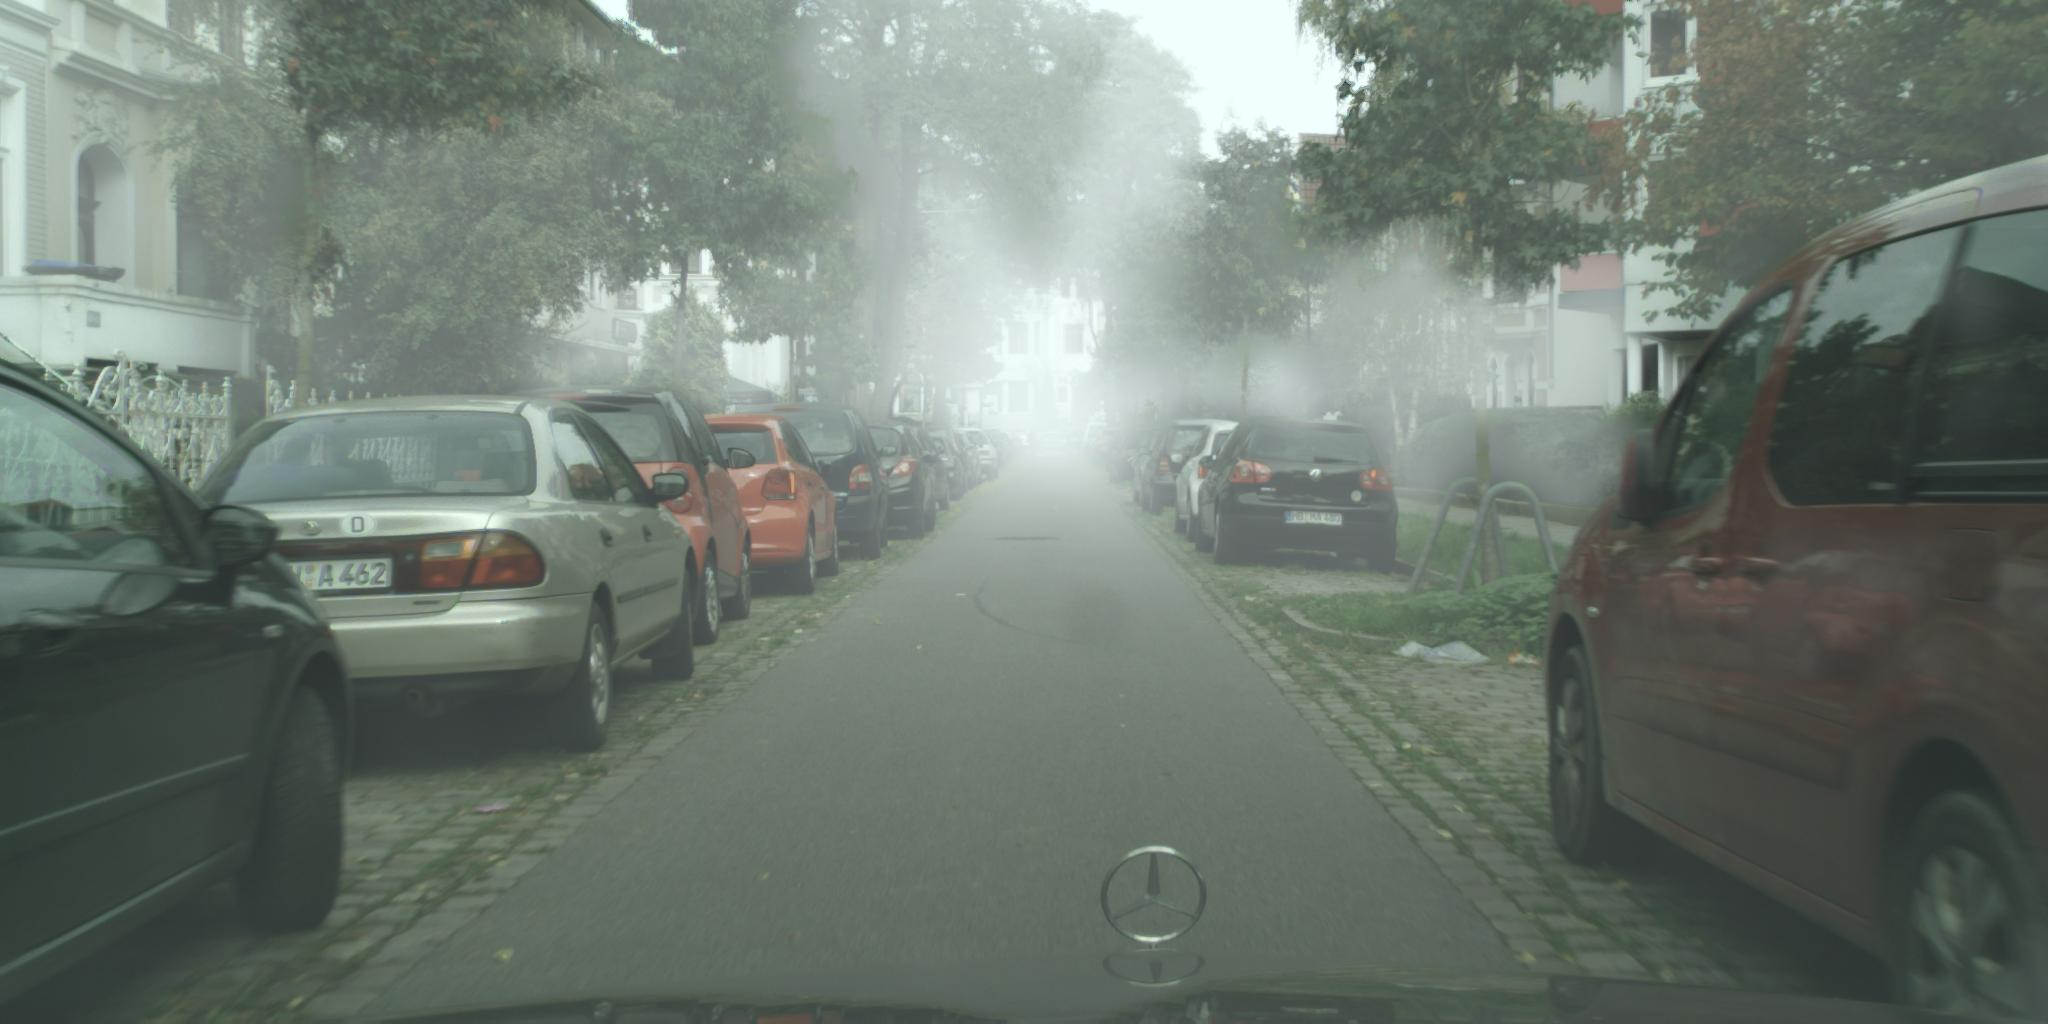car: (1543, 155, 2048, 1024), (1, 359, 355, 1007), (187, 394, 699, 758), (505, 387, 758, 647), (1195, 418, 1400, 573), (731, 404, 899, 563), (704, 413, 840, 598), (859, 421, 938, 541), (1140, 421, 1236, 519), (1172, 422, 1246, 545), (905, 427, 951, 512), (921, 427, 976, 494), (1110, 427, 1166, 486), (1130, 431, 1169, 508), (950, 428, 1000, 483), (929, 438, 965, 503), (952, 432, 984, 488), (1038, 432, 1070, 458), (1034, 434, 1048, 457)
